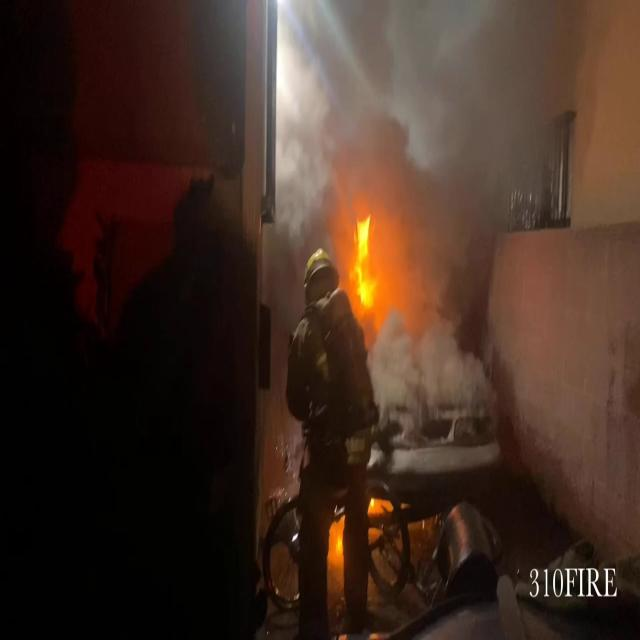Fire: (348, 207, 380, 318)
